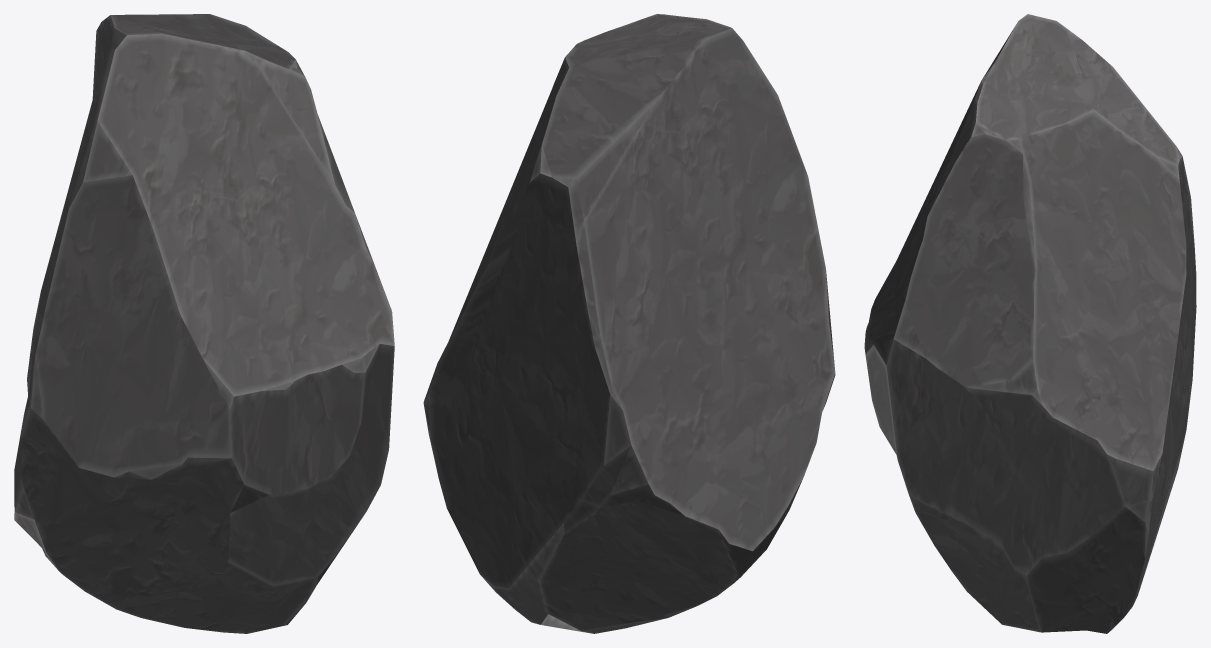
The model's file is rock_tall.glb.
3 renders of one model, left to right at view 1: azimuth 30°, elevation 25°; view 2: azimuth 150°, elevation 25°; view 3: azimuth 270°, elevation 25°, orthographic. The views are drawn at different scales.
Parts seen in each view (by area): view 1: Cube.009; view 2: Cube.009; view 3: Cube.009.
Boxes of the visible parts, x1,y1,x2,y2 form: Cube.009: [14, 14, 394, 633]; Cube.009: [423, 14, 835, 633]; Cube.009: [864, 14, 1196, 633].
Bounding box in the file's own units: 5.67 × 9.87 × 5.27.
Materials: 1 (1 with a texture image).
